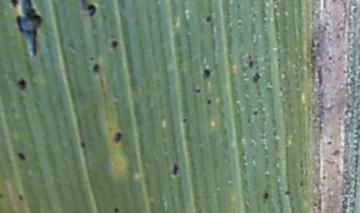tarspot: (9, 1, 43, 59), (78, 1, 98, 19), (15, 77, 29, 90), (111, 130, 123, 144), (169, 163, 180, 178), (245, 51, 254, 69), (107, 38, 120, 50), (89, 62, 101, 75), (200, 67, 211, 81), (202, 14, 215, 25), (250, 72, 261, 83), (16, 151, 26, 161), (204, 95, 213, 106), (192, 86, 202, 95), (16, 193, 25, 202), (262, 191, 271, 200), (78, 139, 86, 148), (180, 116, 187, 126), (283, 188, 291, 196), (86, 55, 96, 61), (112, 205, 119, 213), (251, 109, 259, 115), (299, 180, 304, 187), (1, 192, 4, 199), (270, 1, 277, 4)
